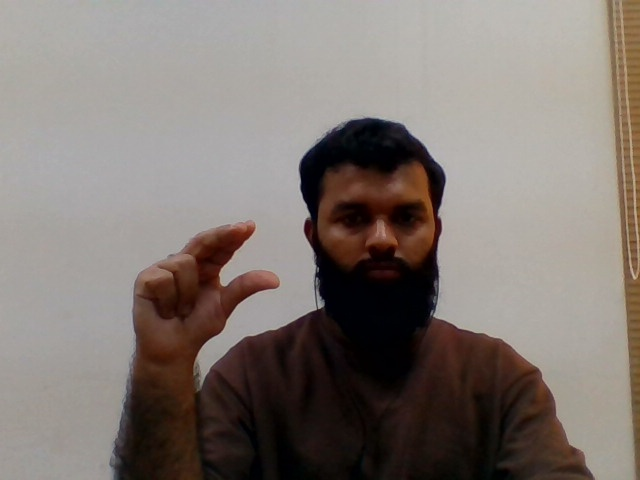No: (114, 215, 303, 353)
